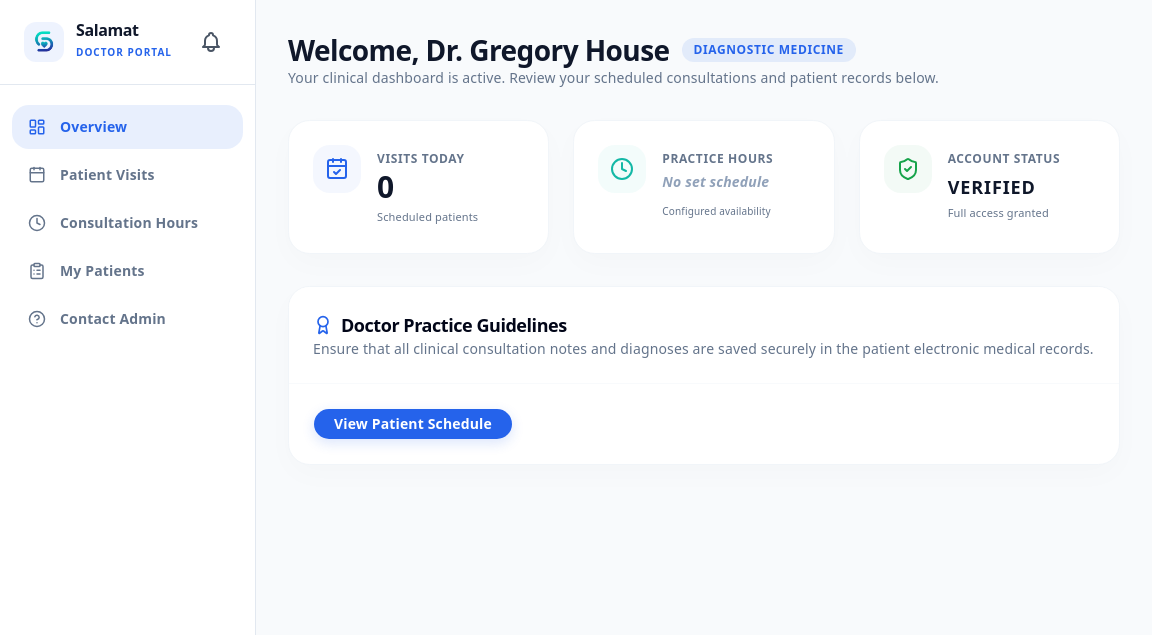
Test: Doctor Slots Tab and Functionality › renders the doctor dashboard overview by default, allows switching to Consultation Hours, and displays active slots
Expected: the heading "Welcome, Dr. Gregory House" is shown, [288,32,670,68]
# Click "Consultation Hours" tab
What coordinates should you click on to do the following:
click the button "Consultation Hours"
I would click on:
 (128, 223)
Its box is [12,201,243,245].
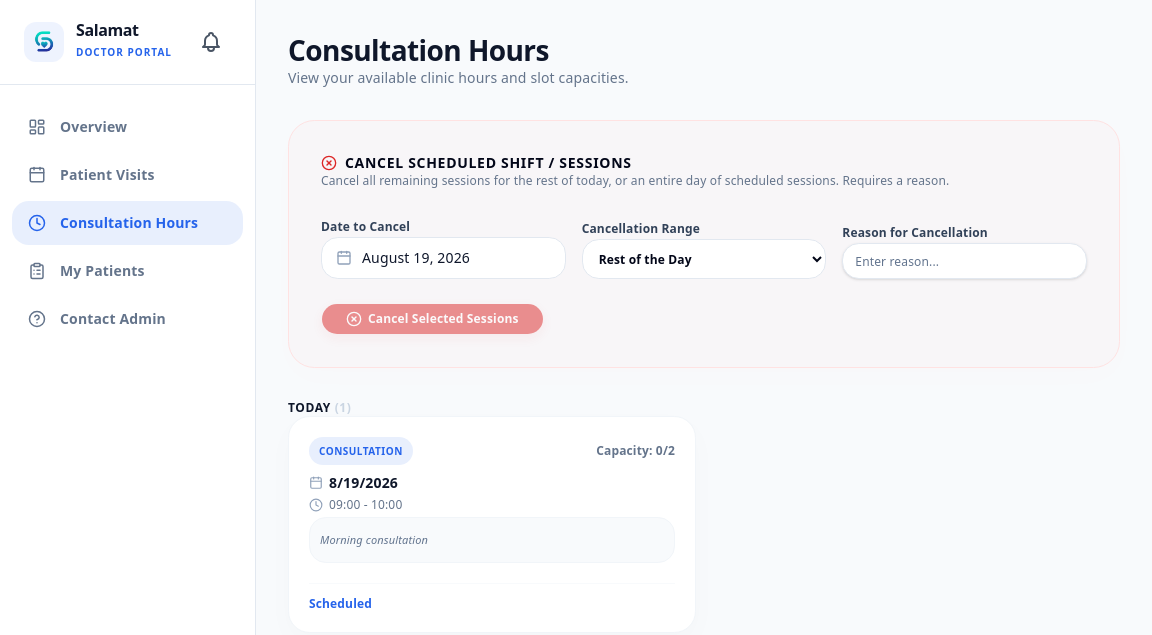
Now the text "Morning consultation" is shown, box [309,517,675,563]
